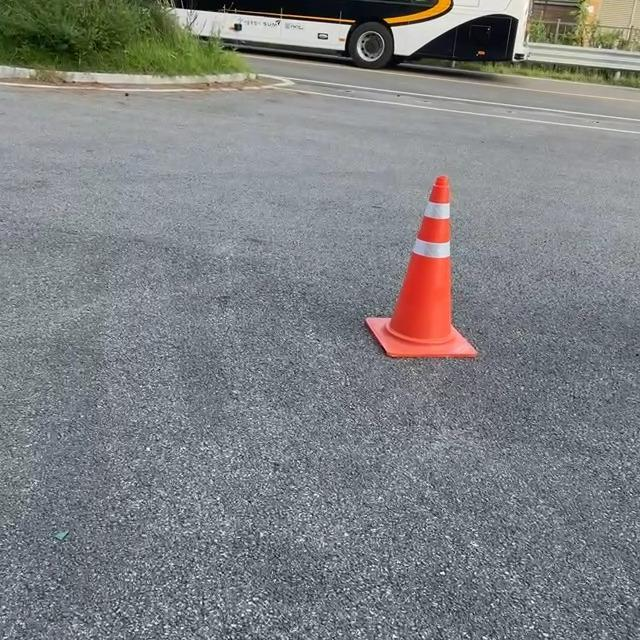fallen_object: (329, 173, 529, 408)
